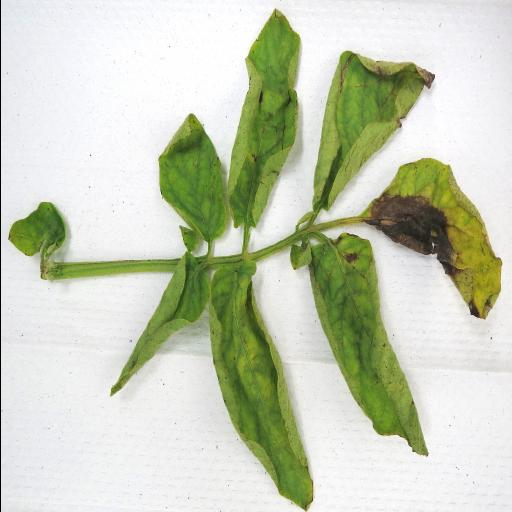Late Blight: (302, 236, 430, 462), (354, 156, 506, 325), (309, 52, 436, 218)
